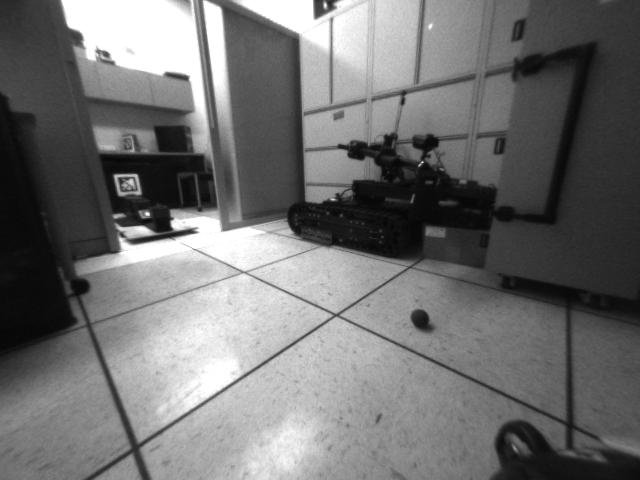dogtoy: (402, 304, 438, 333)
